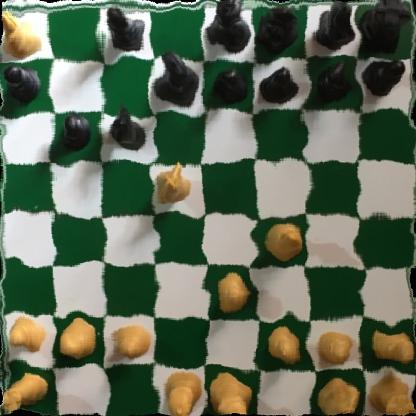black-bishop: (103, 6, 150, 58), (252, 0, 298, 53)
black-king: (205, 0, 249, 56)
black-knight: (101, 103, 146, 154), (314, 0, 357, 51)
black-pawn: (1, 62, 43, 107), (363, 54, 406, 97), (51, 112, 93, 154), (310, 63, 354, 103), (256, 67, 299, 106), (211, 69, 248, 107)
black-queen: (150, 53, 199, 108)
black-rook: (357, 0, 408, 56)
white-bishop: (0, 7, 46, 58), (260, 215, 305, 263)
white-king: (202, 372, 254, 416)
white-knight: (153, 161, 193, 210), (316, 375, 356, 416)
white-pawn: (364, 324, 412, 368), (265, 329, 310, 369), (6, 316, 45, 361), (316, 326, 357, 368), (213, 274, 252, 318), (108, 320, 151, 359), (59, 321, 99, 362)
white-queen: (157, 364, 204, 416)
white-rook: (0, 367, 49, 416), (364, 371, 416, 416)
